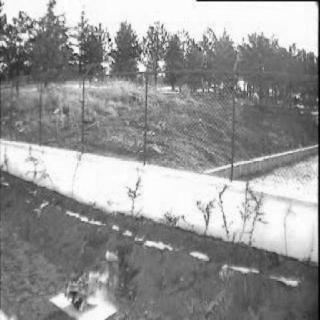Fire: (43, 226, 141, 316)
